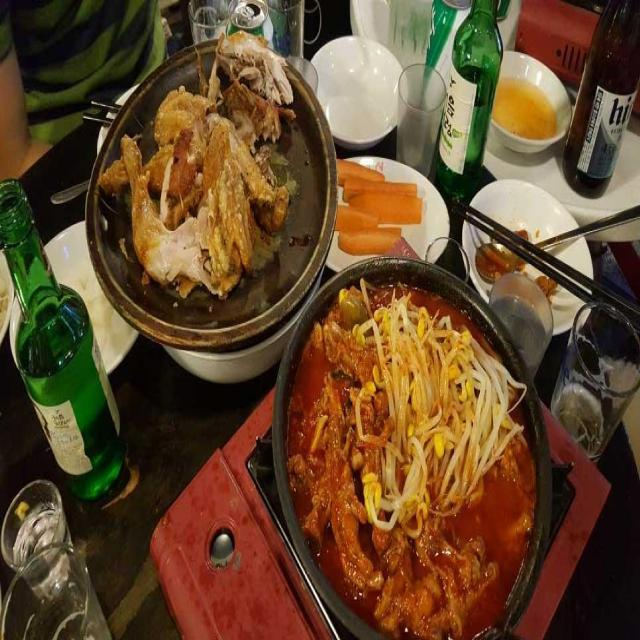soju-bottle: (0, 179, 132, 506), (428, 1, 506, 204)
